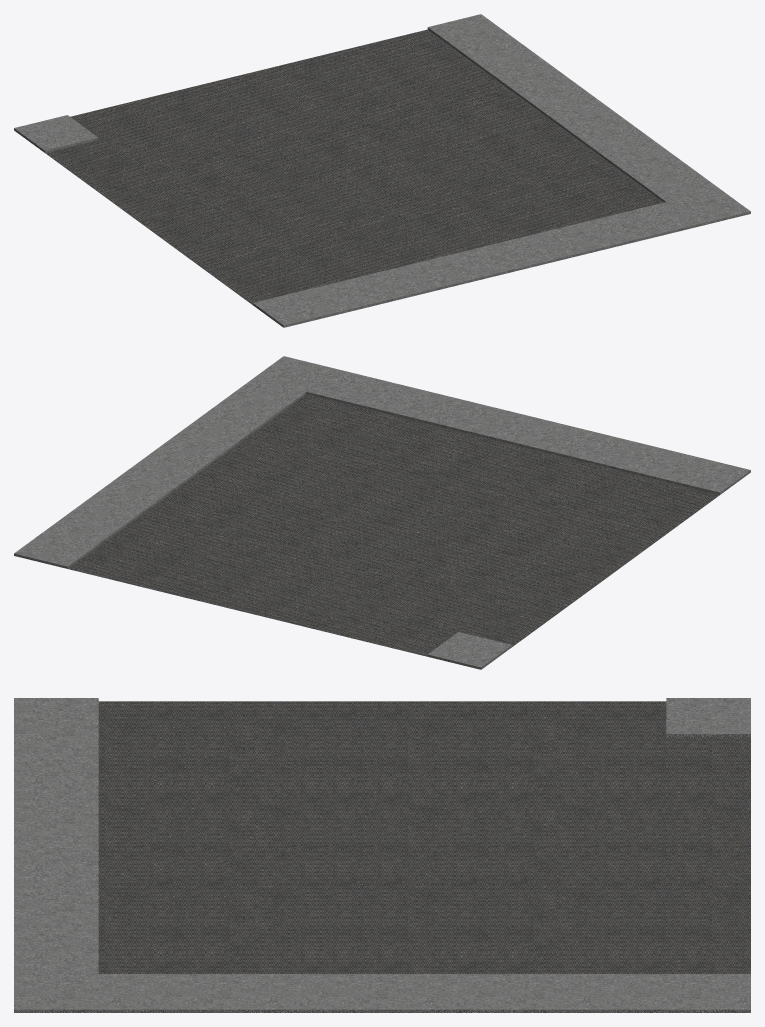
The model's file is Highway_Corner.glb.
3 renders of one model, top to bottom at view 1: azimuth 30°, elevation 25°; view 2: azimuth 150°, elevation 25°; view 3: azimuth 270°, elevation 25°, orthographic. The views are drawn at different scales.
Visible parts, largest first — view 1: Highway_Corner; view 2: Highway_Corner; view 3: Highway_Corner.
Part boxes in pixels (bbox=[...]): Highway_Corner: bbox=[14, 14, 750, 327]; Highway_Corner: bbox=[14, 356, 750, 669]; Highway_Corner: bbox=[14, 698, 750, 1012].
Size of the model in its own units: 24.29 by 0.1182 by 24.29.
Materials: 2 (2 with a texture image).
